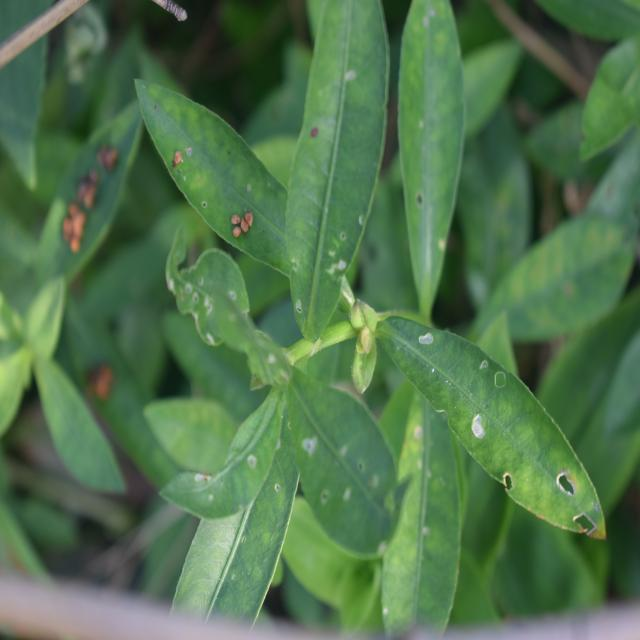Alligatorweed: (170, 38, 580, 592)
